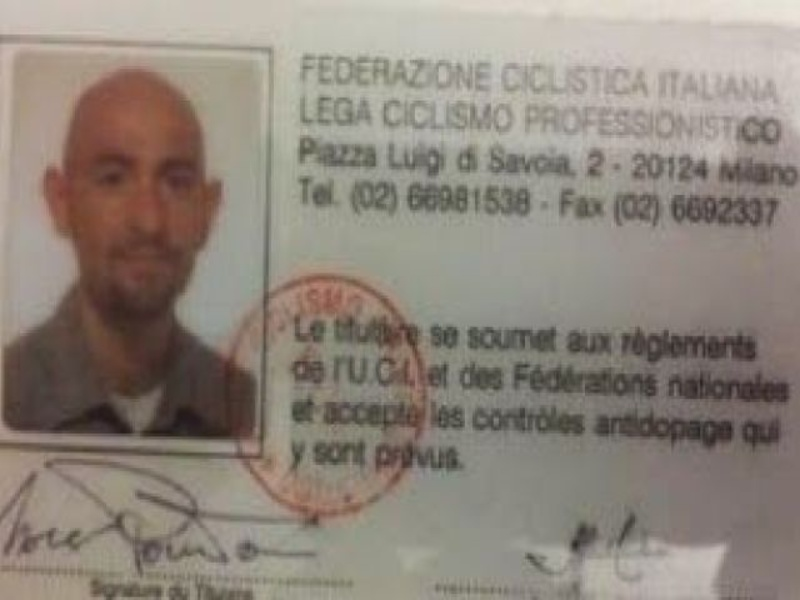face: (38, 66, 237, 326)
